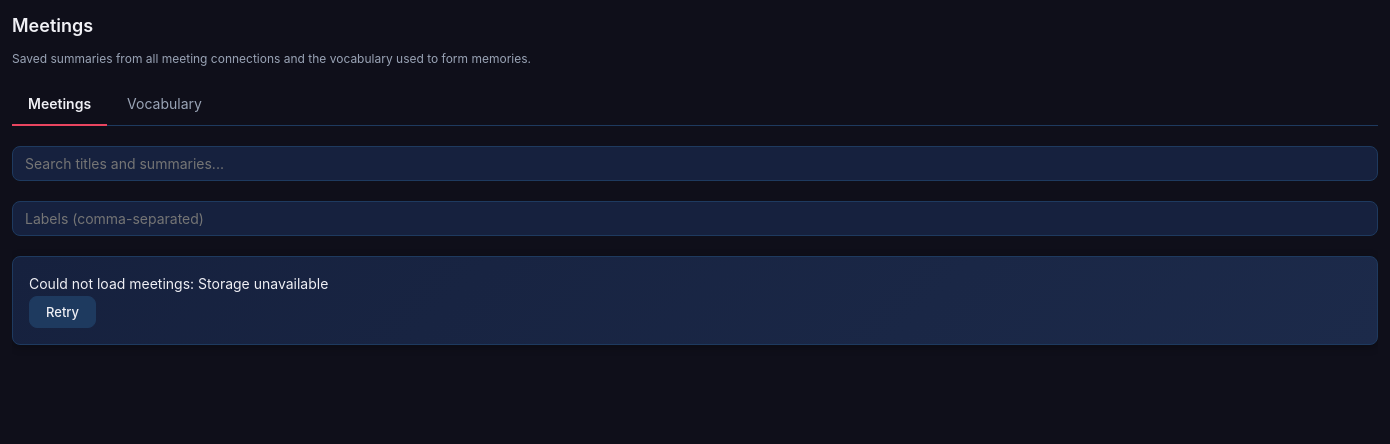
Test: MeetingsIndexPage › shows a failed import reader separately from an empty list and can retry
expect the message shows "Could not load meetings: Storage unavailable": met, box [12,256,1378,345]
Click the button "Retry" at (62, 312), box [29,296,96,328]
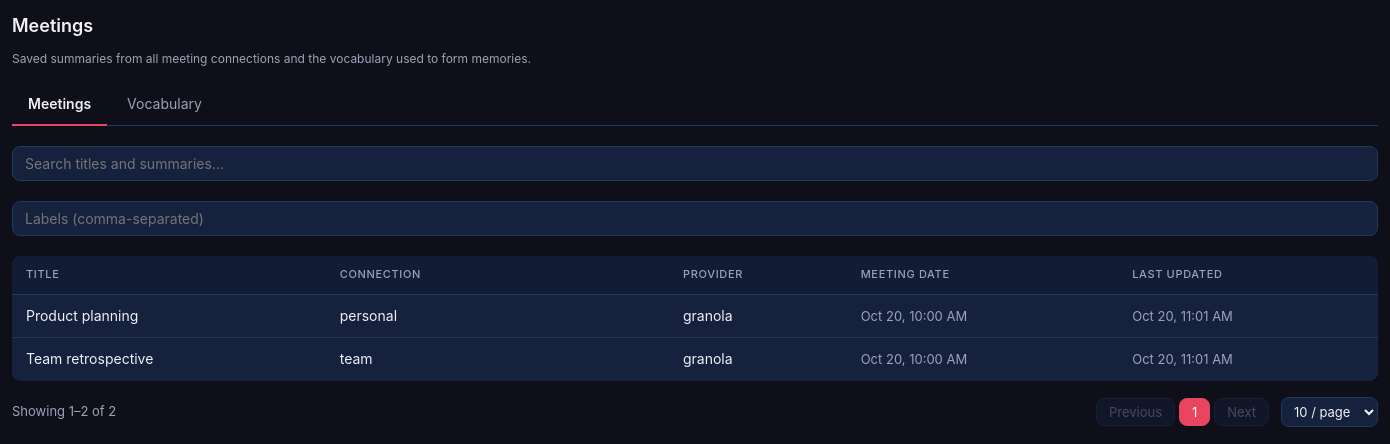
expect the text "Product planning" is shown: met, box [12,294,326,338]
expect the message "Could not load meetings: Storage unavailable Retry" is gone: met
